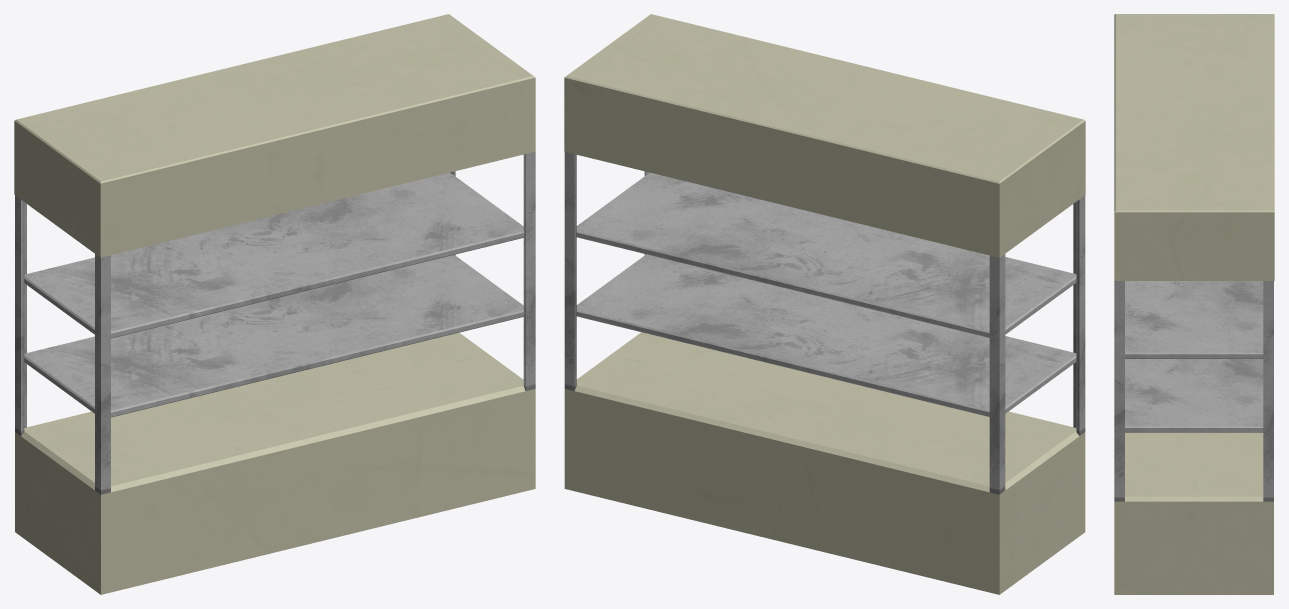
The model's file is tray return.fbx.
The picture shows the model from 3 angles, left to right: view 1: azimuth 30°, elevation 25°; view 2: azimuth 150°, elevation 25°; view 3: azimuth 270°, elevation 25°; orthographic projection. The views are drawn at different scales.
Parts seen in each view (by area): view 1: tray_return1, tray_return_head, pCube733, pCube729, pCube725, pCube735, pCube734; view 2: tray_return1, tray_return_head, pCube733, pCube729, pCube734, pCube736, pCube725; view 3: tray_return_head, tray_return1, pCube733, pCube729, pCube736, pCube735.
Part boxes in pixels (bbox=[...]): tray_return1: bbox=[15, 332, 535, 594]; tray_return_head: bbox=[14, 14, 535, 257]; pCube733: bbox=[24, 172, 523, 338]; pCube729: bbox=[24, 255, 523, 417]; pCube725: bbox=[95, 254, 110, 494]; pCube735: bbox=[523, 151, 535, 390]; pCube734: bbox=[15, 195, 26, 435]; tray_return1: bbox=[564, 332, 1085, 594]; tray_return_head: bbox=[564, 14, 1085, 257]; pCube733: bbox=[576, 172, 1076, 337]; pCube729: bbox=[576, 254, 1076, 416]; pCube734: bbox=[989, 254, 1005, 494]; pCube736: bbox=[564, 152, 576, 390]; pCube725: bbox=[1073, 195, 1085, 435]; tray_return_head: bbox=[1114, 14, 1274, 280]; tray_return1: bbox=[1114, 432, 1273, 594]; pCube733: bbox=[1125, 281, 1263, 358]; pCube729: bbox=[1125, 359, 1263, 432]; pCube736: bbox=[1263, 281, 1273, 501]; pCube735: bbox=[1114, 281, 1124, 501].
Size of the model in its own units: 318 by 289 by 109.
